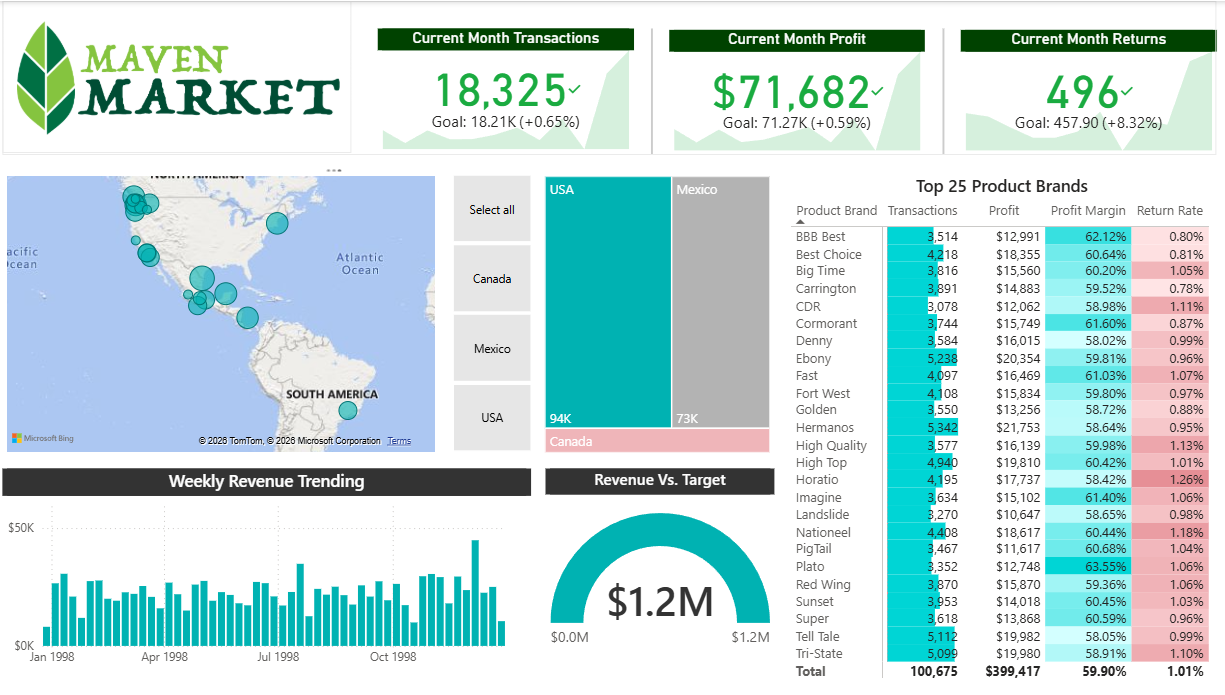

The page's visual inventory and layout, read from the dashboard file:
{"tool":"powerbi","page":{"name":"Topline Performance","canvas":[1280,720],"ordinal":0},"visuals":[{"type":"image","box":[12.6,0,361.7,158],"z":0,"group":"g1"},{"type":"pivotTable","title":"Top 25 Product Brands","fields":{"Values":["Measures Table.Total Transactions","Measures Table.Total Profit","Measures Table.Profit Margin","Measures Table.Return Rate"],"Rows":["Products.product_brand"]},"box":[824,173.2,446.9,537.7],"z":0},{"type":"map","fields":{"Category":["Stores.City"],"Size":["Measures Table.Total Transactions"]},"box":[12.6,175.8,453.4,296.3],"z":0,"group":"g2"},{"type":"group","id":"g1","title":"Header","box":[12.6,0,1258.4,159.2],"z":1000},{"type":"kpi","title":"Current Month Transactions","fields":{"Indicator":["Measures Table.Total Transactions"],"TrendLine":["Calendar.Start of Month"],"Goal":["Measures Table.Transactions Target"]},"box":[400.9,29.2,265.4,130],"z":1000,"group":"g1"},{"type":"slicer","fields":{"Values":["Stores.Country"]},"box":[454.3,173.2,129.5,298.9],"z":1000,"group":"g2"},{"type":"kpi","title":"Current Month Profit","fields":{"TrendLine":["Calendar.Start of Month"],"Indicator":["Measures Table.Total Profit"],"Goal":["Measures Table.Profit Target"]},"box":[703.4,29.6,265,130],"z":2000,"group":"g1"},{"type":"group","id":"g2","title":"Map","box":[12.6,173.2,571.2,298.9],"z":2000},{"type":"kpi","title":"Current Month Returns","fields":{"TrendLine":["Calendar.Start of Month"],"Indicator":["Measures Table.Total Returns"],"Goal":["Measures Table.Returns Target"]},"box":[1005.6,29.6,265.4,130],"z":3000,"group":"g1"},{"type":"treemap","fields":{"Group":["Stores.Country","Stores.State","Stores.City"],"Values":["Measures Table.Total Transactions"]},"box":[569.8,176,243,296.1],"z":3000},{"type":"shape","box":[678.8,28,12.6,130],"z":4000,"group":"g1"},{"type":"gauge","title":"Revenue Vs. Target","fields":{"Y":["Measures Table.Total Revenue"],"MaxValue":["Measures Table.Revenue Target"]},"box":[575.4,484.6,237.4,213.7],"z":4000},{"type":"shape","box":[980.5,28,12.6,130],"z":5000,"group":"g1"},{"type":"columnChart","title":"Weekly Revenue Trending","fields":{"Category":["Calendar.Start of Week"],"Y":["Measures Table.Total Revenue"]},"box":[12.6,484.6,547.5,213.7],"z":5000}]}

Visuals, with their boxes in screenshot pixels (x1, y1, x2, y2), scaled from the page's 1280x720 canvas onto the 1225x695 screenshot:
image: {"x1": 12, "y1": 0, "x2": 358, "y2": 153}
"Top 25 Product Brands" pivotTable: {"x1": 789, "y1": 167, "x2": 1216, "y2": 686}
map - Stores.City x Measures Table.Total Transactions: {"x1": 12, "y1": 170, "x2": 446, "y2": 456}
"Header" group: {"x1": 12, "y1": 0, "x2": 1216, "y2": 154}
"Current Month Transactions" kpi: {"x1": 384, "y1": 28, "x2": 638, "y2": 154}
slicer - Stores.Country: {"x1": 435, "y1": 167, "x2": 559, "y2": 456}
"Current Month Profit" kpi: {"x1": 673, "y1": 29, "x2": 927, "y2": 154}
"Map" group: {"x1": 12, "y1": 167, "x2": 559, "y2": 456}
"Current Month Returns" kpi: {"x1": 962, "y1": 29, "x2": 1216, "y2": 154}
treemap - Stores.Country x Stores.State: {"x1": 545, "y1": 170, "x2": 778, "y2": 456}
shape: {"x1": 650, "y1": 27, "x2": 662, "y2": 153}
"Revenue Vs. Target" gauge: {"x1": 551, "y1": 468, "x2": 778, "y2": 674}
shape: {"x1": 938, "y1": 27, "x2": 950, "y2": 153}
"Weekly Revenue Trending" columnChart: {"x1": 12, "y1": 468, "x2": 536, "y2": 674}
